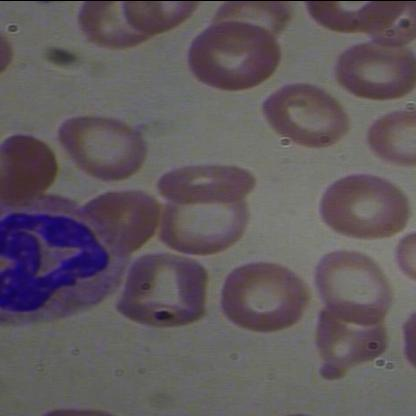RBC: (112, 247, 214, 328), (214, 258, 314, 334), (51, 111, 150, 187), (183, 17, 282, 93), (250, 80, 348, 156), (154, 177, 252, 253), (309, 244, 394, 328), (304, 299, 390, 380), (318, 170, 414, 240), (329, 36, 415, 103), (153, 160, 257, 208), (0, 130, 61, 208)
WBC: (0, 192, 137, 336)
